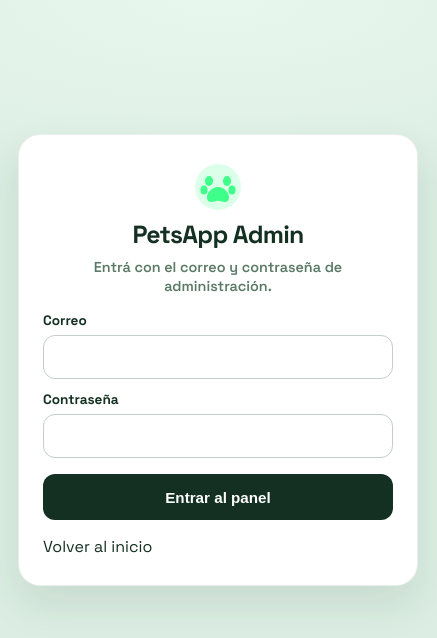
Test: LoginPage Nest-only authentication › S3 uses a generic safe error for a non-Error rejection without storing or navigating
The width and height of the screenshot is (437, 638).
Type "admin@petsapp.io" into the field labelled "Correo" at (218, 357), box [43,335,393,379]
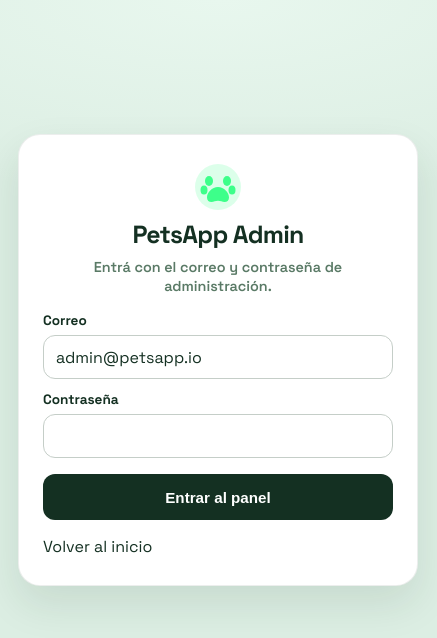
Type "Admin1234!" into the password field labelled "Contraseña" at (218, 436), box [43,414,393,458]
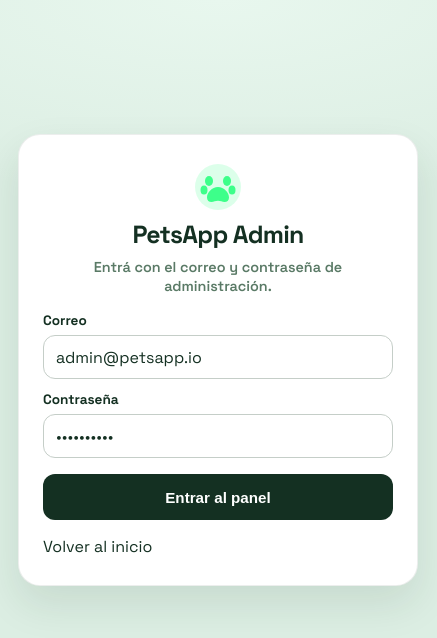
Click the button "Entrar al panel" at (218, 497), box [43,474,393,520]
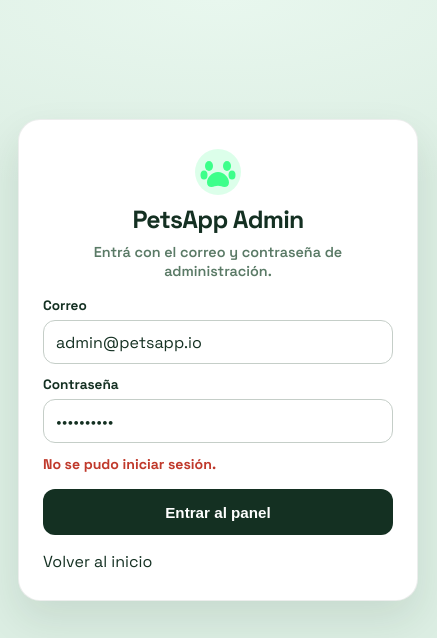
Expected: the button "Entrar al panel" is enabled, [43,489,393,535]
Now the message reads "No se pudo iniciar sesión.", box [43,455,216,473]
